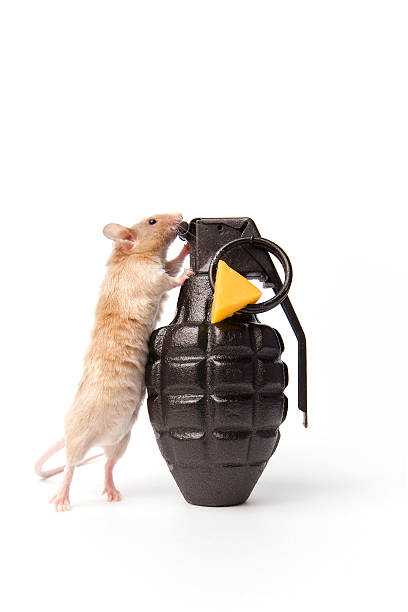e1: (149, 215, 313, 510)
